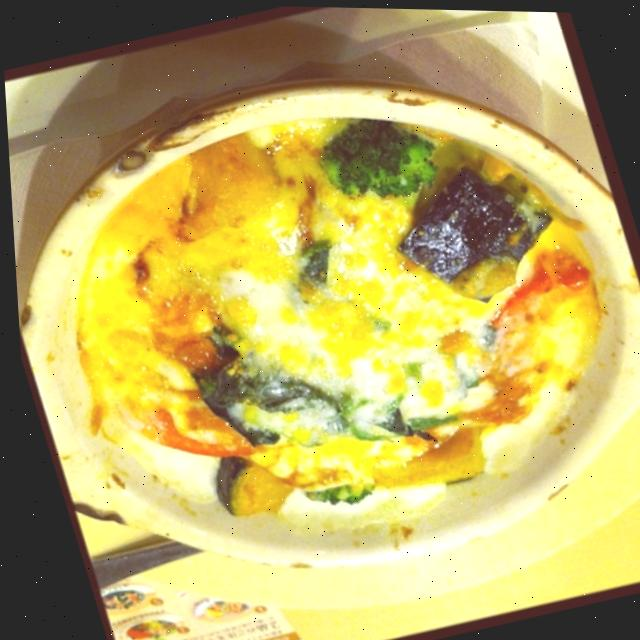米饭主食: (2, 40, 640, 611)
